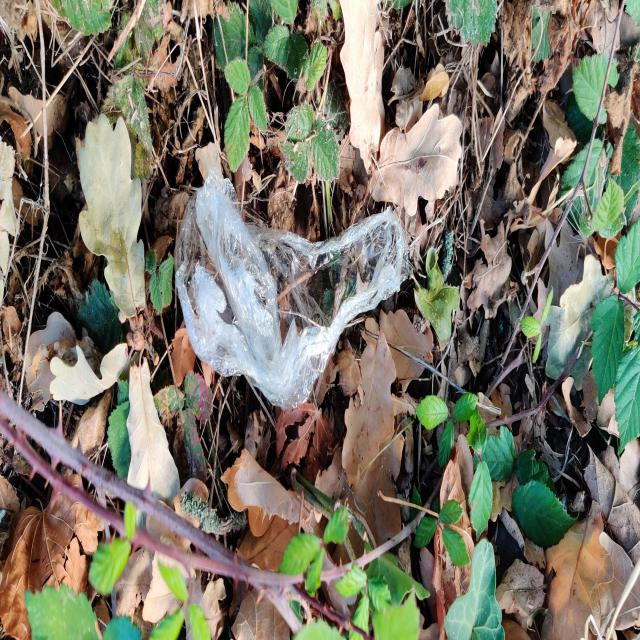litter: (174, 167, 409, 411)
